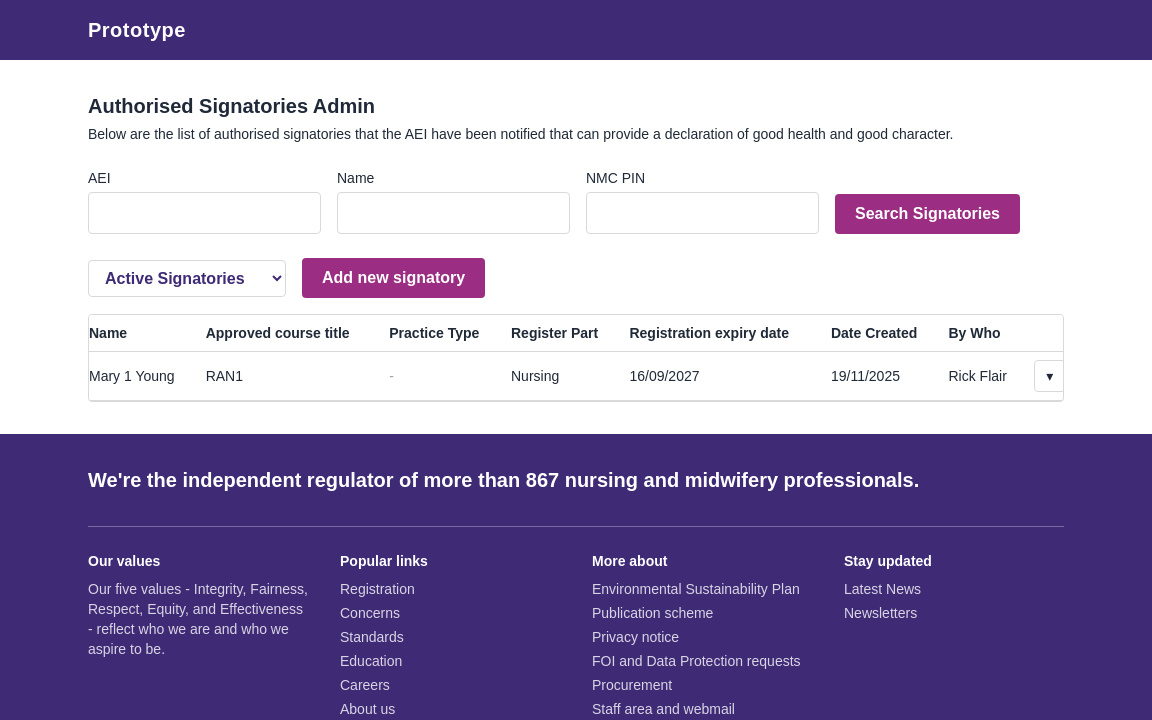
Scenario: AuthorisedSignatoriesPage › flips to Inactive Signatories, re-fetches, and hides Remove Signatory for those rows
Expected: the cell "Mary 1 Young" is shown, x1=89 y1=352 x2=206 y2=400
Step 1. Select "Inactive Signatories" in the dropdown named "Active or Inactive Signatories" → (187, 278), box x1=88 y1=260 x2=286 y2=296
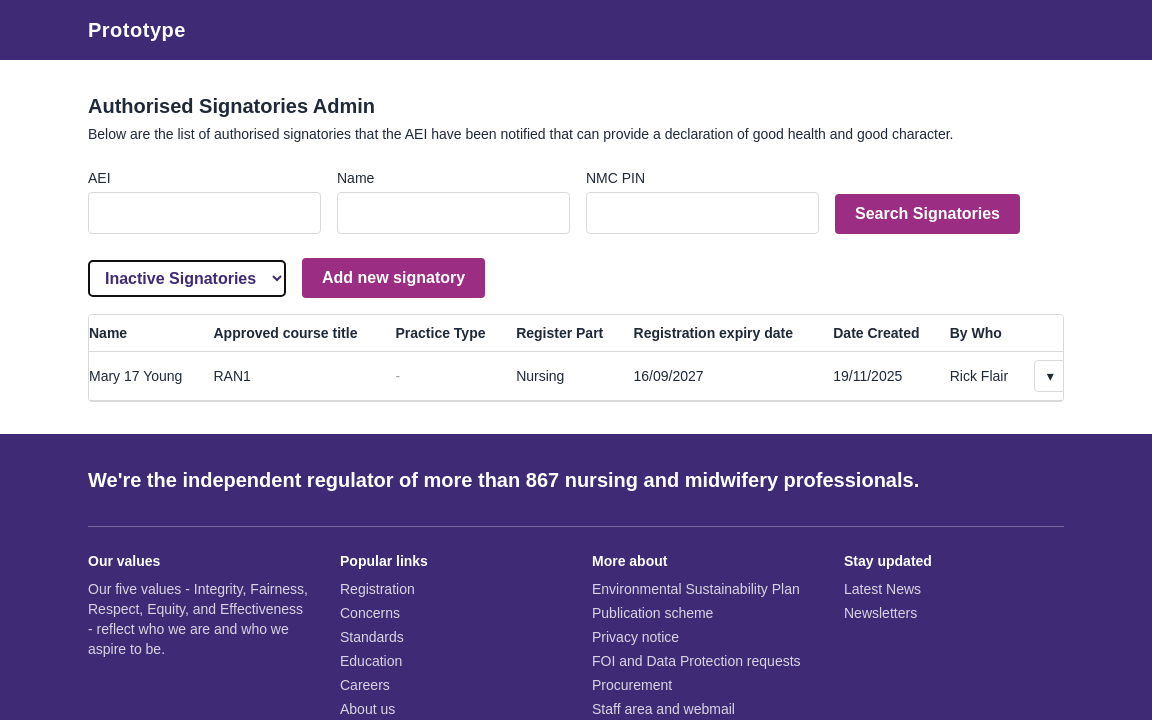
Expected: the cell "Mary 17 Young" is shown, x1=89 y1=352 x2=214 y2=400
Expected: the cell "Mary 1 Young" is gone
Step 2. Click the button named "Actions for" → (1050, 376), box x1=1034 y1=360 x2=1066 y2=392
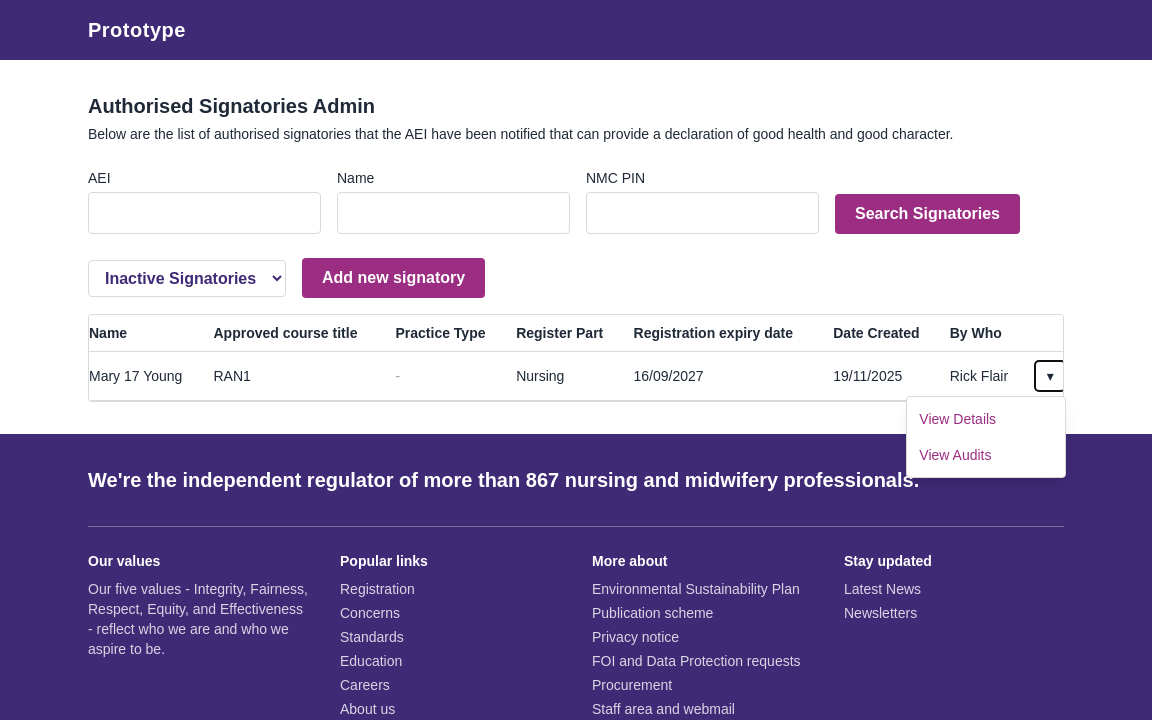
Expected: the link "View Details" is shown, x1=919 y1=411 x2=996 y2=427
